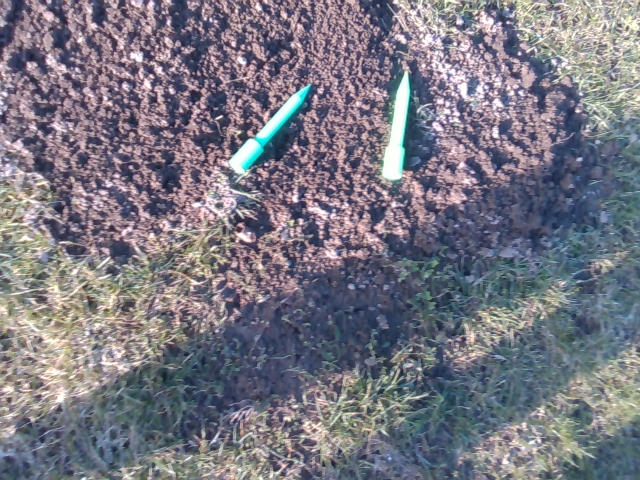Probe: (225, 76, 315, 179), (377, 61, 417, 188)
